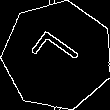L_SE: (27, 28, 87, 83)
